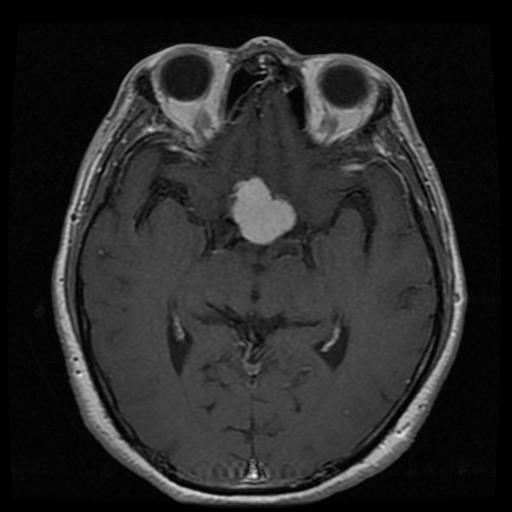Tumour-Meningioma: (188, 162, 334, 276)
